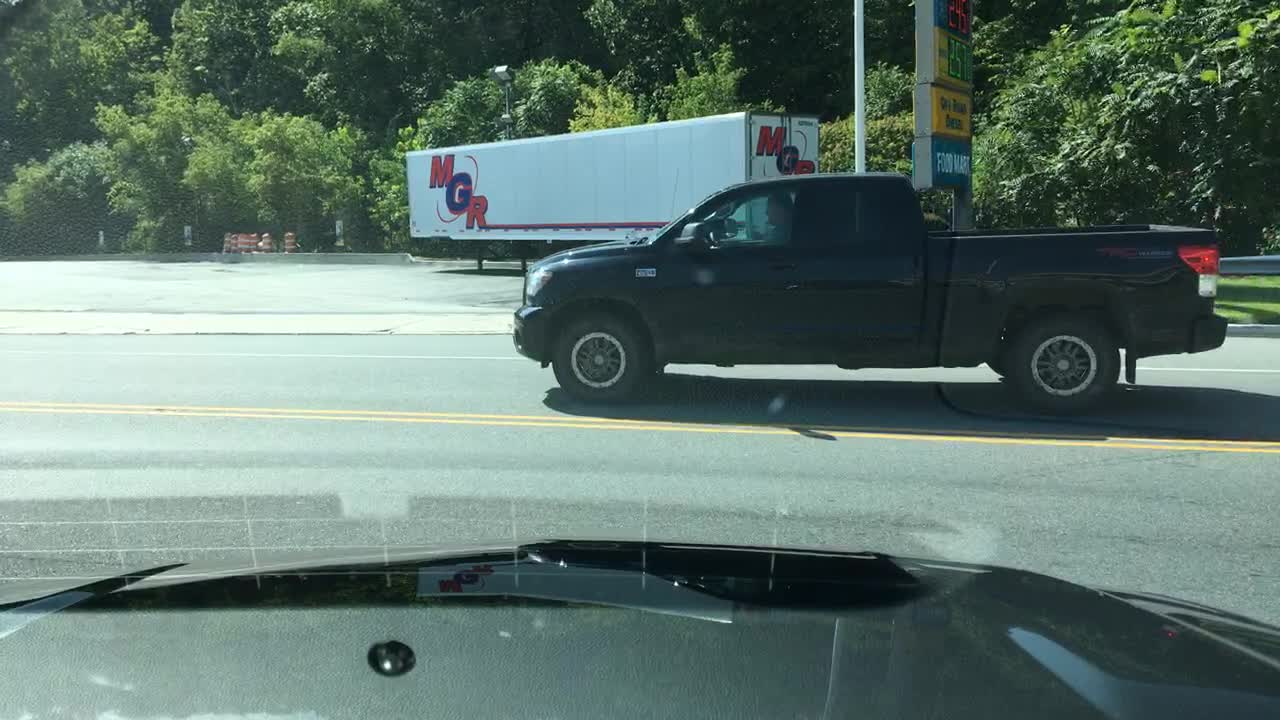car: (510, 168, 1226, 416)
traffic light: (929, 25, 974, 92), (929, 0, 974, 41)
traffic sign: (907, 136, 971, 196), (929, 81, 972, 139)
truck: (403, 110, 821, 267)
